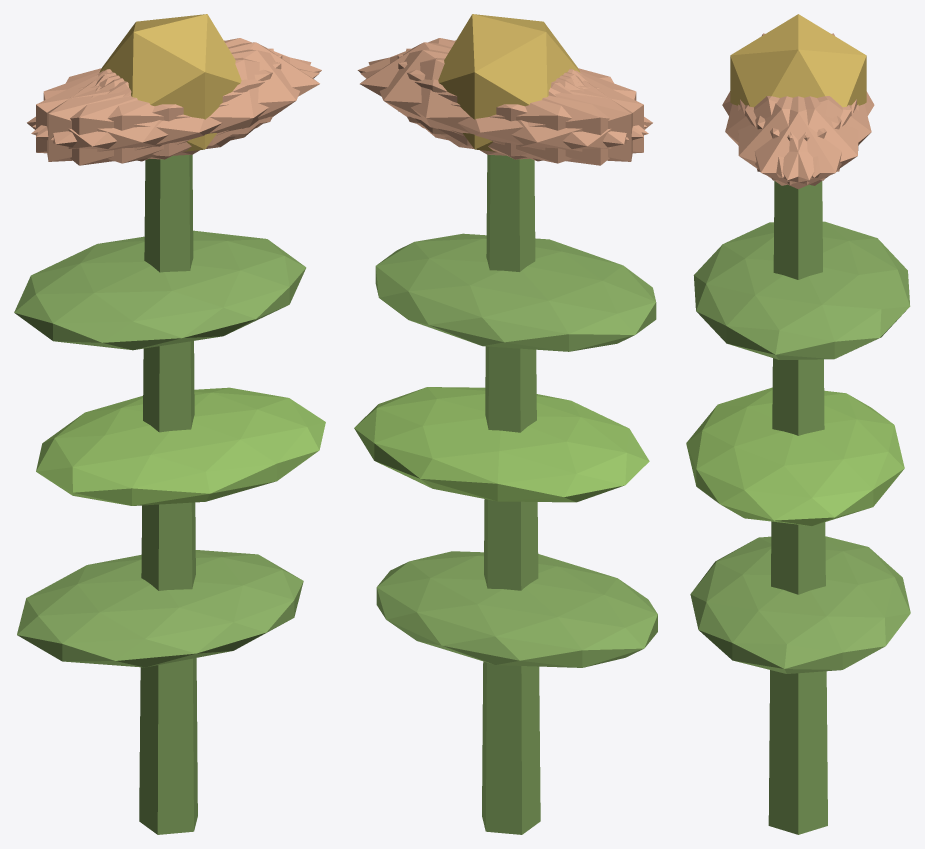
File: calophyllum-brasiliense.glb
3 views of the same model, side by side, from view 1: azimuth 30°, elevation 25°; view 2: azimuth 150°, elevation 25°; view 3: azimuth 270°, elevation 25° (orthographic).
Visible parts, largest first — view 1: stem, leaf2, leaf1, leaf0, center, petal1, petal6, petal2, petal5, petal7, petal0, petal4 (+2 smaller); view 2: stem, leaf2, leaf1, leaf0, center, petal8, petal3, petal7, petal4, petal2, petal0, petal5 (+2 smaller); view 3: stem, leaf1, leaf2, leaf0, center, petal0, petal5, petal4, petal8, petal1.
Part boxes in pixels (<box>): stem: <box>139,154,197,834</box>; leaf2: <box>14,230,306,350</box>; leaf1: <box>36,387,325,505</box>; leaf0: <box>17,550,303,667</box>; center: <box>99,14,241,151</box>; petal1: <box>31,57,319,163</box>; petal6: <box>27,70,235,165</box>; petal2: <box>47,48,273,161</box>; petal5: <box>51,49,311,156</box>; petal7: <box>36,54,282,159</box>; petal0: <box>99,42,319,146</box>; petal4: <box>32,38,321,137</box>; stem: <box>482,154,540,834</box>; leaf2: <box>375,233,656,351</box>; leaf1: <box>354,387,649,502</box>; leaf0: <box>376,551,657,667</box>; center: <box>438,14,580,151</box>; petal8: <box>360,57,648,163</box>; petal3: <box>444,70,652,165</box>; petal7: <box>406,48,632,161</box>; petal4: <box>368,49,628,156</box>; petal2: <box>397,54,643,159</box>; petal0: <box>360,42,580,146</box>; petal5: <box>357,38,647,137</box>; stem: <box>768,181,827,834</box>; leaf1: <box>686,387,904,525</box>; leaf2: <box>693,221,910,359</box>; leaf0: <box>690,536,910,673</box>; center: <box>730,14,866,107</box>; petal0: <box>740,96,856,189</box>; petal5: <box>738,96,851,185</box>; petal4: <box>745,96,858,185</box>; petal8: <box>755,96,871,177</box>; petal1: <box>725,96,841,177</box>.
Bounding box in the file's own units: 0.1489 × 0.3912 × 0.1009.
